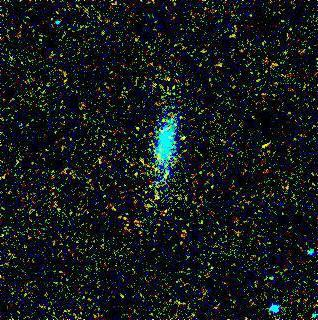star: (171, 123, 201, 153)
